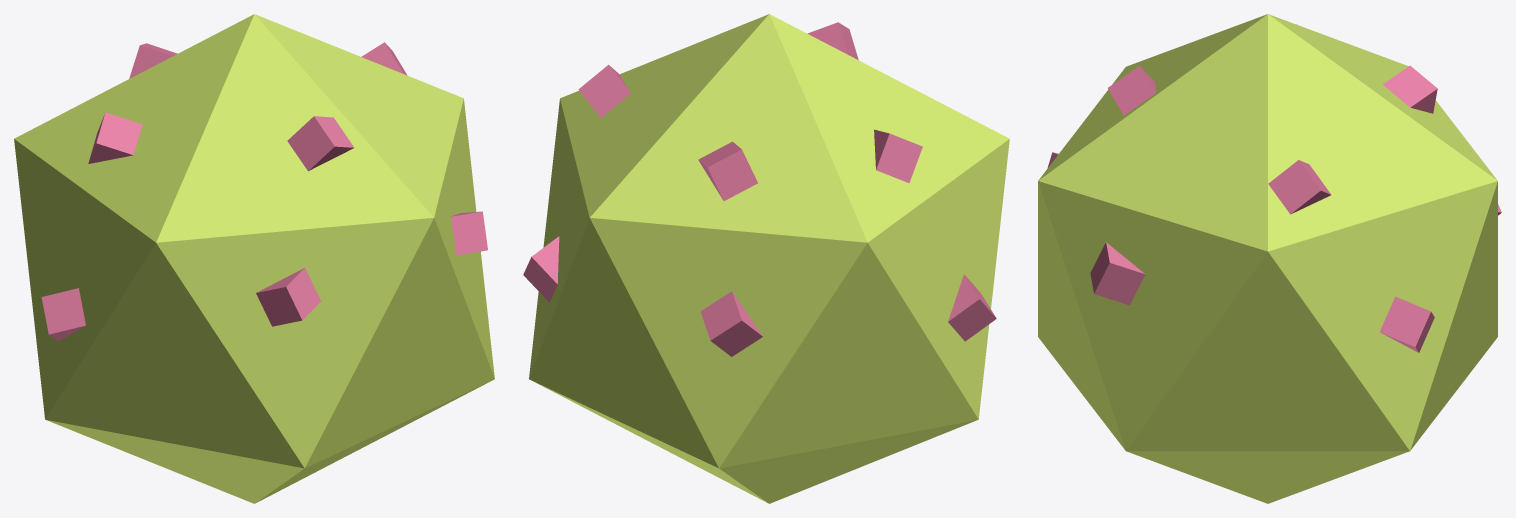
File: Cactus_Bush.glb
3 views of the same model, side by side, from view 1: azimuth 30°, elevation 25°; view 2: azimuth 150°, elevation 25°; view 3: azimuth 270°, elevation 25° (orthographic).
Parts seen in each view (by area): view 1: Cactus_Bush; view 2: Cactus_Bush; view 3: Cactus_Bush.
Part boxes in pixels (box(x1,y1,x2,y2)): Cactus_Bush: box(14, 14, 494, 503); Cactus_Bush: box(523, 14, 1009, 503); Cactus_Bush: box(1038, 14, 1501, 503).
Bounding box in the file's own units: 1.2 × 1.32 × 1.13.
